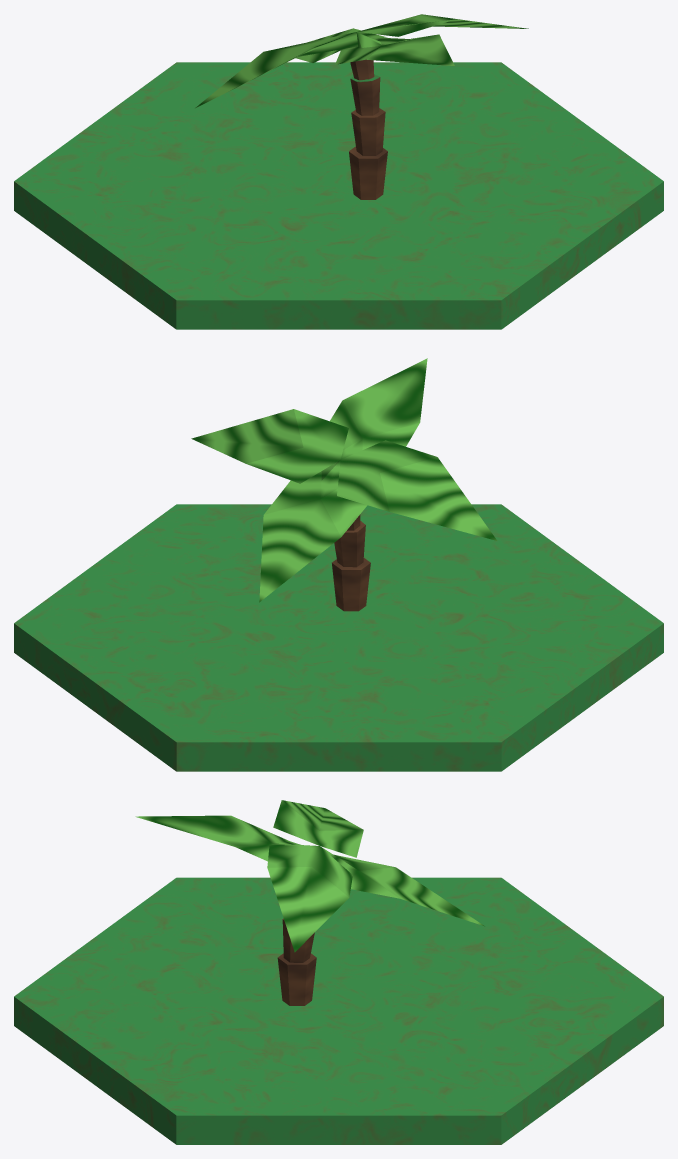
The model's file is Jungle.gltf.
3 views of the same model, one above another, from view 1: azimuth 30°, elevation 25°; view 2: azimuth 150°, elevation 25°; view 3: azimuth 270°, elevation 25° (orthographic).
Parts seen in each view (by area): view 1: 09 Jungle; view 2: 09 Jungle; view 3: 09 Jungle.
Part boxes in pixels (box(x1,y1,x2,y2)): 09 Jungle: box(14, 14, 663, 329); 09 Jungle: box(14, 358, 663, 771); 09 Jungle: box(14, 800, 663, 1144).
Bounding box in the file's own units: 1.73 × 0.734 × 2.
Materials: 2 (2 with a texture image).
